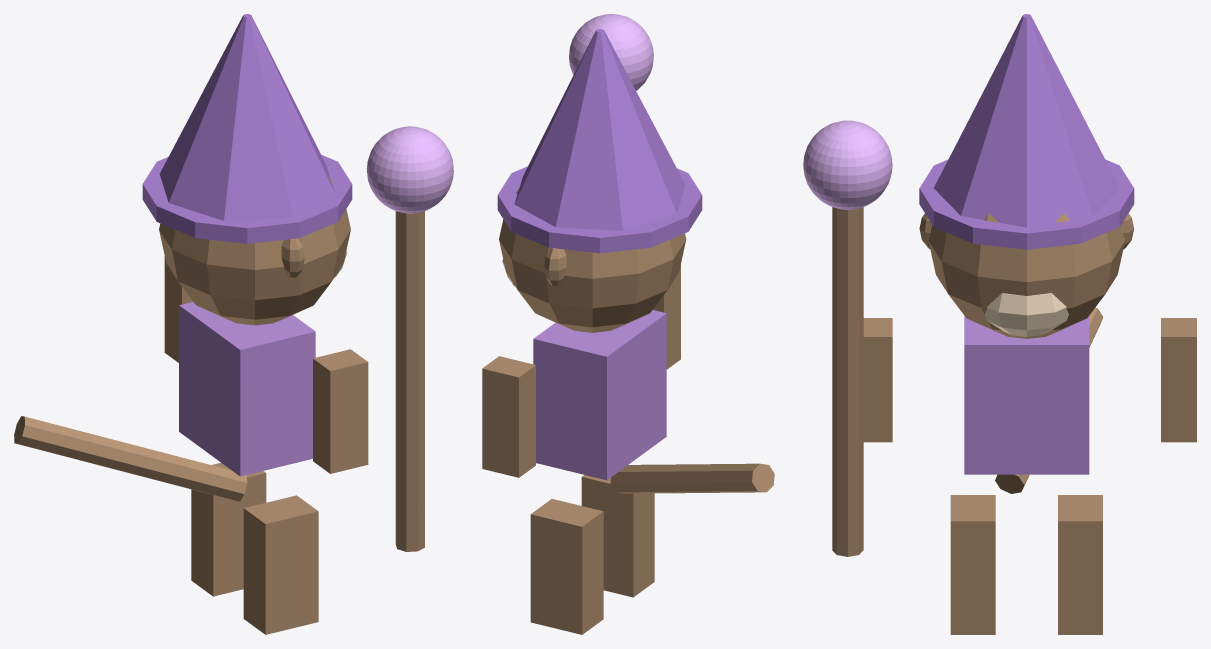
File: tower_wizard.glb
3 views of the same model, side by side, from view 1: azimuth 30°, elevation 25°; view 2: azimuth 150°, elevation 25°; view 3: azimuth 270°, elevation 25° (orthographic). The views are drawn at different scales.
Parts seen in each view (by area): view 1: tower_wizard; view 2: tower_wizard; view 3: tower_wizard.
Boxes of the visible parts, left/top/right/bottom form: tower_wizard: left=14, top=14, right=453, bottom=634; tower_wizard: left=482, top=14, right=774, bottom=634; tower_wizard: left=803, top=14, right=1196, bottom=634.
Bounding box in the file's own units: 0.9608 × 1.7 × 1.01.
